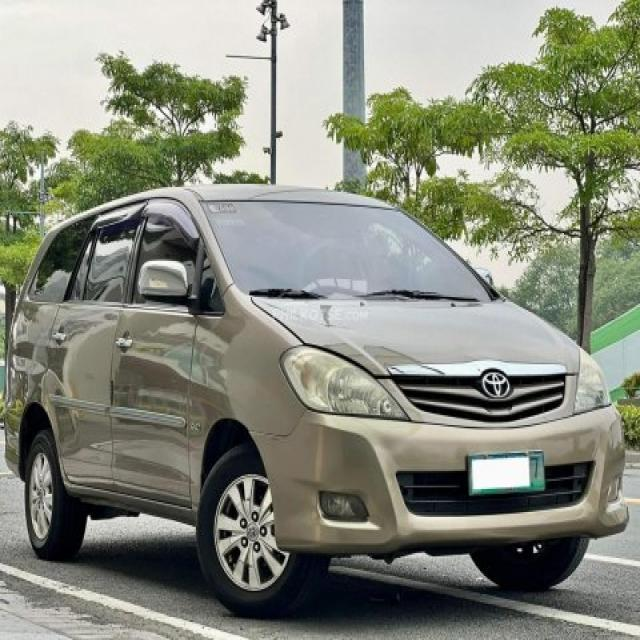light_vehicle: (1, 182, 631, 619)
